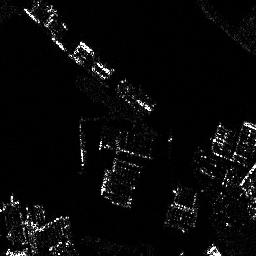ship: (76, 123, 86, 164)
